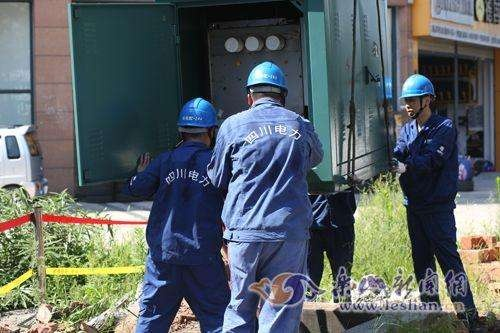blue: (174, 96, 219, 152), (243, 58, 289, 112), (399, 71, 436, 122)
